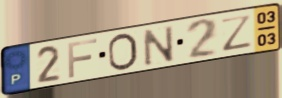2: (185, 17, 220, 62), (35, 45, 63, 85)
F: (65, 36, 100, 80)
N: (141, 23, 177, 68)
O: (107, 32, 140, 73)
Z: (219, 13, 255, 53)
